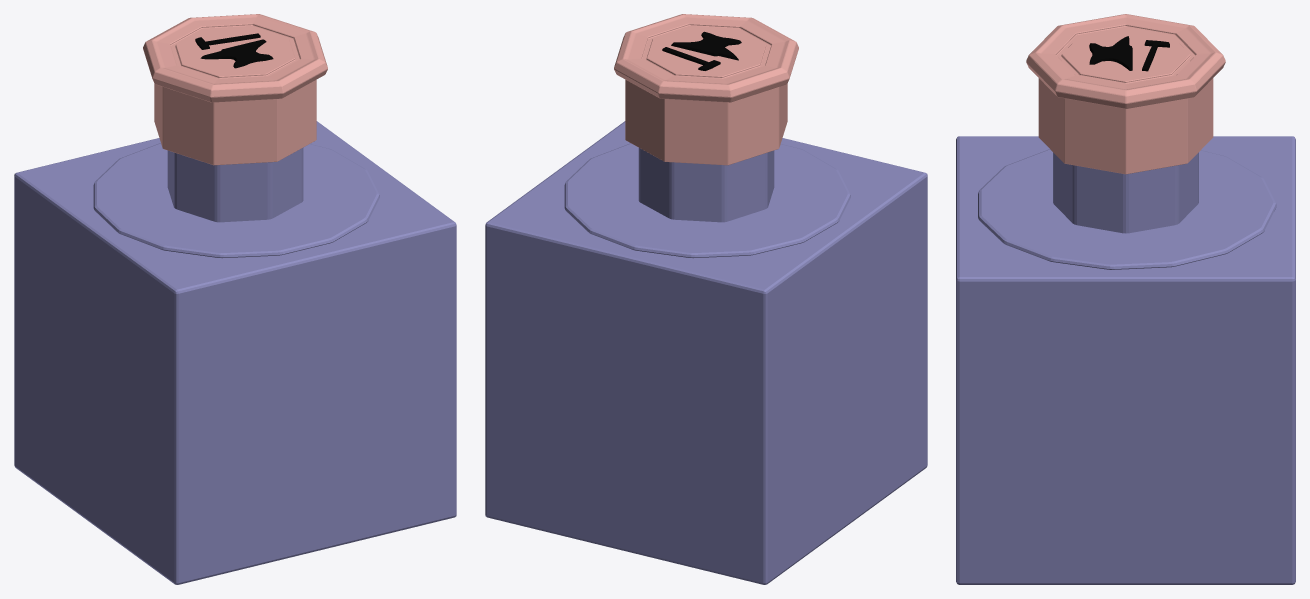
Rendered from Crafting_Button_Animation.fbx.
3 views of the same model, side by side, from view 1: azimuth 30°, elevation 25°; view 2: azimuth 150°, elevation 25°; view 3: azimuth 270°, elevation 25° (orthographic). The views are drawn at different scales.
Parts seen in each view (by area): view 1: Torus.003, Torus.009; view 2: Torus.003, Torus.009; view 3: Torus.003, Torus.009.
Boxes of the visible parts, <box> form: Torus.003: <box>14,121,456,584</box>; Torus.009: <box>143,14,327,165</box>; Torus.003: <box>485,121,927,584</box>; Torus.009: <box>614,14,798,165</box>; Torus.003: <box>956,136,1295,584</box>; Torus.009: <box>1026,14,1225,174</box>.
Bounding box in the file's own units: 200 × 301 × 200.
